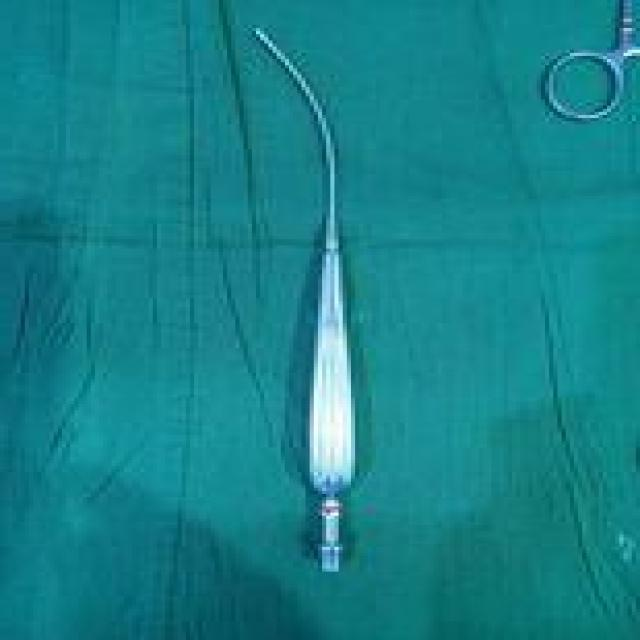Yankauer: (244, 22, 368, 581)
